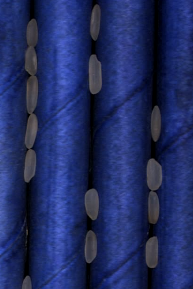complete_grain: (86, 51, 103, 97), (146, 157, 164, 192), (82, 187, 100, 221), (89, 3, 104, 42), (22, 148, 38, 184), (24, 114, 39, 151), (84, 227, 98, 266), (149, 103, 162, 143), (145, 235, 160, 269), (24, 17, 40, 46), (24, 45, 38, 76)
yellow_grain: (24, 74, 39, 114), (147, 189, 161, 226)
